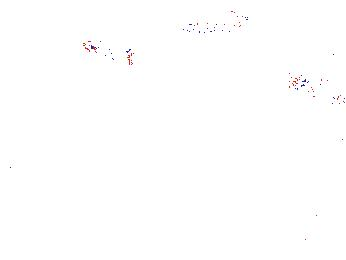red belly glassfish: (320, 49, 345, 59)
redtail glassfish: (288, 68, 346, 107), (181, 11, 255, 35), (80, 39, 135, 66)
